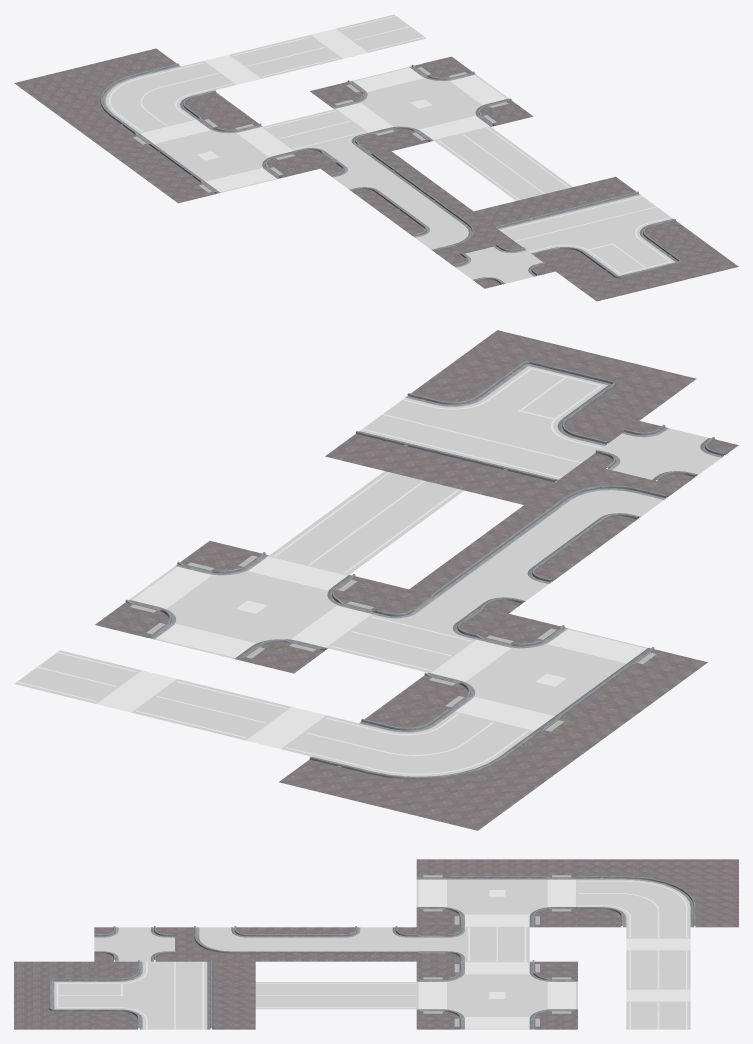
The model's file is RoadUnit.fbx.
3 views of the same model, one above another, from view 1: azimuth 30°, elevation 25°; view 2: azimuth 150°, elevation 25°; view 3: azimuth 270°, elevation 25° (orthographic). The views are drawn at different scales.
Parts seen in each view (by area): view 1: RoadUnit_T-Junction, RoadUnit_Crossroad, RoadUnit_Corner, RoadUnit_T-junction_2, RoadUnit_Half_End, Road_TwoLane_20m_PedestrianCrossing, Road_TwoLane_20m, RoadUnit_Half_Crossroad, RoadUnit_Half_Corner, RoadUnit_Half_Straight, RoadUnit_Half_T-junction, Road_TwoLane_10m (+2 smaller); view 2: RoadUnit_Corner, RoadUnit_Crossroad, RoadUnit_T-Junction, RoadUnit_T-junction_2, RoadUnit_Half_End, Road_TwoLane_20m_PedestrianCrossing, Road_TwoLane_20m, RoadUnit_Half_Crossroad, RoadUnit_Half_T-junction, RoadUnit_Half_Straight, RoadUnit_Half_Corner, Road_TwoLane_10m_PedestrianCrossing (+2 smaller); view 3: RoadUnit_Crossroad, RoadUnit_T-junction_2, RoadUnit_T-Junction, RoadUnit_Corner, RoadUnit_Half_End, Road_TwoLane_20m, Road_TwoLane_20m_PedestrianCrossing, RoadUnit_Half_Straight, RoadUnit_Half_T-junction, RoadUnit_Half_Corner, RoadUnit_Half_Crossroad, Road_TwoLane_10m (+2 smaller).
Boxes of the visible parts, x1=… form: RoadUnit_T-Junction: x1=96, y1=108, x2=319, y2=203; RoadUnit_Crossroad: x1=310, y1=56, x2=533, y2=151; RoadUnit_Corner: x1=14, y1=48, x2=237, y2=142; RoadUnit_T-junction_2: x1=474, y1=176, x2=697, y2=271; RoadUnit_Half_End: x1=556, y1=237, x2=738, y2=301; Road_TwoLane_20m_PedestrianCrossing: x1=252, y1=14, x2=426, y2=72; Road_TwoLane_20m: x1=435, y1=127, x2=572, y2=200; RoadUnit_Half_Crossroad: x1=444, y1=241, x2=555, y2=288; RoadUnit_Half_Corner: x1=403, y1=211, x2=514, y2=258; RoadUnit_Half_Straight: x1=362, y1=181, x2=473, y2=228; RoadUnit_Half_T-junction: x1=321, y1=151, x2=431, y2=198; Road_TwoLane_10m: x1=263, y1=109, x2=366, y2=150; RoadUnit_Corner: x1=279, y1=698, x2=592, y2=830; RoadUnit_Crossroad: x1=95, y1=541, x2=408, y2=673; RoadUnit_T-Junction: x1=394, y1=614, x2=707, y2=746; RoadUnit_T-junction_2: x1=325, y1=372, x2=638, y2=504; RoadUnit_Half_End: x1=440, y1=330, x2=696, y2=420; Road_TwoLane_20m_PedestrianCrossing: x1=14, y1=650, x2=258, y2=732; Road_TwoLane_20m: x1=270, y1=471, x2=463, y2=574; RoadUnit_Half_Crossroad: x1=582, y1=421, x2=738, y2=487; RoadUnit_Half_T-junction: x1=409, y1=547, x2=565, y2=613; RoadUnit_Half_Straight: x1=467, y1=505, x2=623, y2=571; RoadUnit_Half_Corner: x1=524, y1=463, x2=680, y2=529; Road_TwoLane_10m_PedestrianCrossing: x1=214, y1=699, x2=358, y2=756; RoadUnit_Crossroad: x1=416, y1=960, x2=577, y2=1029; RoadUnit_T-junction_2: x1=94, y1=960, x2=255, y2=1029; RoadUnit_T-Junction: x1=416, y1=859, x2=577, y2=927; RoadUnit_Corner: x1=578, y1=859, x2=738, y2=927; RoadUnit_Half_End: x1=14, y1=961, x2=94, y2=1029; Road_TwoLane_20m: x1=255, y1=982, x2=416, y2=1009; Road_TwoLane_20m_PedestrianCrossing: x1=626, y1=961, x2=690, y2=1029; RoadUnit_Half_Straight: x1=255, y1=927, x2=336, y2=961; RoadUnit_Half_T-junction: x1=336, y1=926, x2=416, y2=961; RoadUnit_Half_Corner: x1=175, y1=926, x2=255, y2=961; RoadUnit_Half_Crossroad: x1=94, y1=926, x2=174, y2=961; Road_TwoLane_10m: x1=465, y1=927, x2=529, y2=961.
Bounding box in the file's own units: 50 × 0.2 × 89.99.
